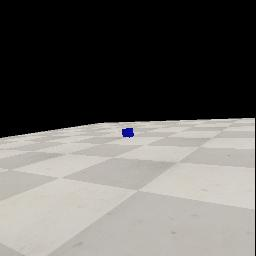box: (122, 128, 134, 138)
